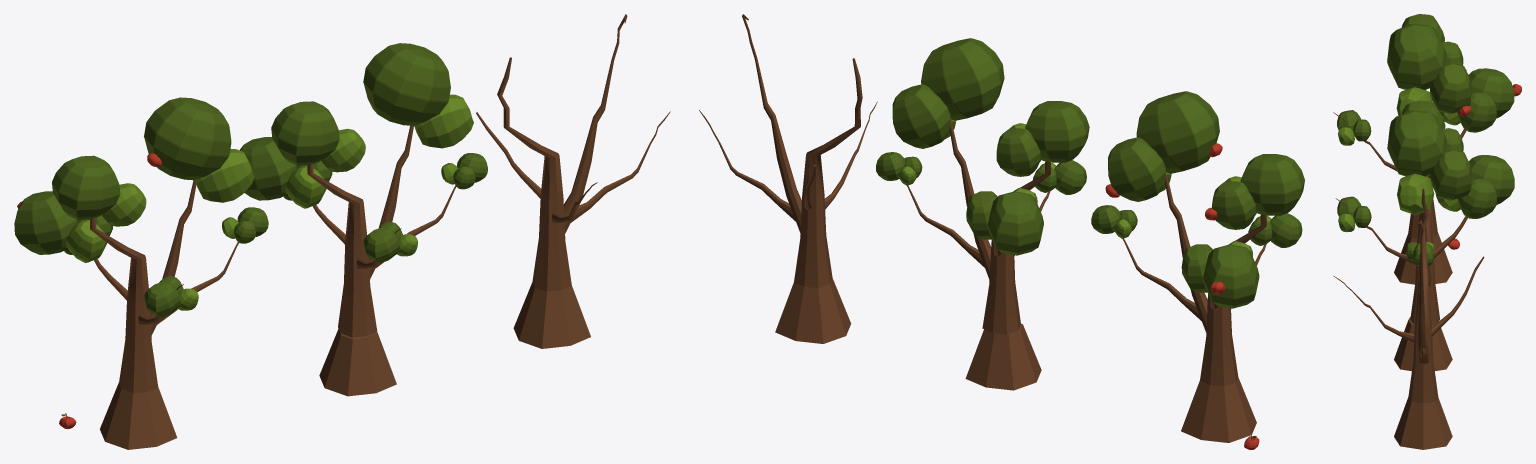
File: AppleTree.fbx
3 views of the same model, side by side, from view 1: azimuth 30°, elevation 25°; view 2: azimuth 150°, elevation 25°; view 3: azimuth 270°, elevation 25° (orthographic). The views are drawn at different scales.
Parts seen in each view (by area): view 1: Bush1.006, Bush1.013, Cube.012, Cube.015, Cube.013, Cube.008, Cube.006; view 2: Bush1.006, Bush1.013, Cube.012, Cube.015, Cube.013, Cube.006, Cube.008; view 3: Bush1.013, Bush1.006, Cube.012, Cube.008, Cube.015, Cube.013, Cube.006.
Boxes of the visible parts, x1,y1,x2,y2 form: Bush1.006: (14,97,268,393); Bush1.013: (239,43,487,262); Cube.012: (476,14,670,291); Cube.015: (307,125,456,337); Cube.013: (319,329,396,396); Cube.008: (513,282,590,348); Cube.006: (100,382,177,449); Bush1.006: (1091,91,1304,386); Bush1.013: (876,38,1089,255); Cube.012: (699,14,877,288); Cube.015: (907,119,1059,334); Cube.013: (965,323,1041,390); Cube.006: (1181,377,1256,442); Cube.008: (775,278,851,343); Bush1.013: (1337,100,1514,266); Bush1.006: (1333,14,1521,238); Cube.012: (1333,188,1484,403); Cube.008: (1394,397,1452,449); Cube.015: (1335,175,1467,324); Cube.013: (1394,317,1452,371); Cube.006: (1394,233,1452,284).
Size of the model in its own units: 36.31 by 18.4 by 11.93.
